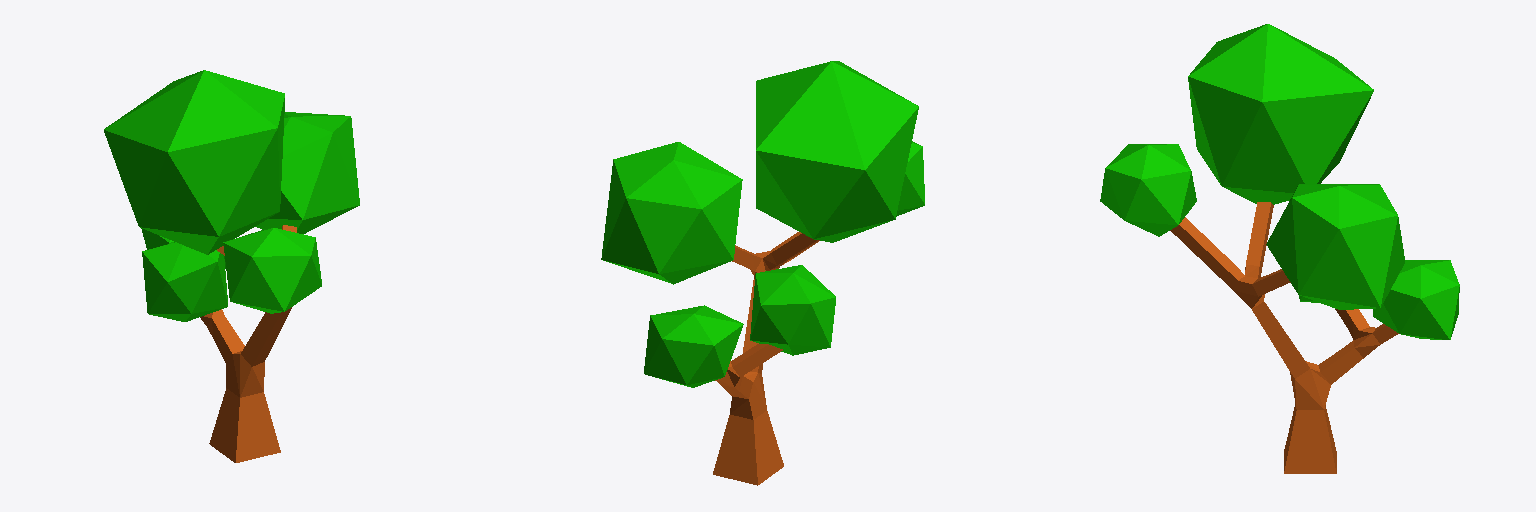
File: dtree7C(F326).obj
3 views of the same model, side by side, from view 1: azimuth 30°, elevation 25°; view 2: azimuth 150°, elevation 25°; view 3: azimuth 270°, elevation 25° (orthographic).
Visible parts, largest first — view 1: Icosphere.060, Icosphere.059, Cube.014, Icosphere.061, Icosphere.057; view 2: Icosphere.060, Icosphere.059, Cube.014, Icosphere.058, Icosphere.057, Icosphere.061; view 3: Icosphere.060, Icosphere.059, Cube.014, Icosphere.061, Icosphere.058.
Part boxes in pixels (bbox=[...]): Icosphere.060: bbox=[104, 70, 284, 254]; Icosphere.059: bbox=[255, 112, 359, 233]; Cube.014: bbox=[200, 225, 296, 462]; Icosphere.061: bbox=[223, 228, 321, 313]; Icosphere.057: bbox=[142, 242, 227, 321]; Icosphere.060: bbox=[756, 61, 918, 242]; Icosphere.059: bbox=[601, 142, 742, 284]; Cube.014: bbox=[713, 232, 819, 485]; Icosphere.058: bbox=[644, 305, 743, 387]; Icosphere.057: bbox=[750, 265, 835, 355]; Icosphere.061: bbox=[896, 141, 924, 216]; Icosphere.060: bbox=[1188, 24, 1373, 204]; Icosphere.059: bbox=[1266, 184, 1404, 309]; Cube.014: bbox=[1170, 202, 1398, 473]; Icosphere.061: bbox=[1100, 144, 1196, 236]; Icosphere.058: bbox=[1373, 260, 1459, 339].
Size of the model in its own units: 1.44 by 2.25 by 1.79.